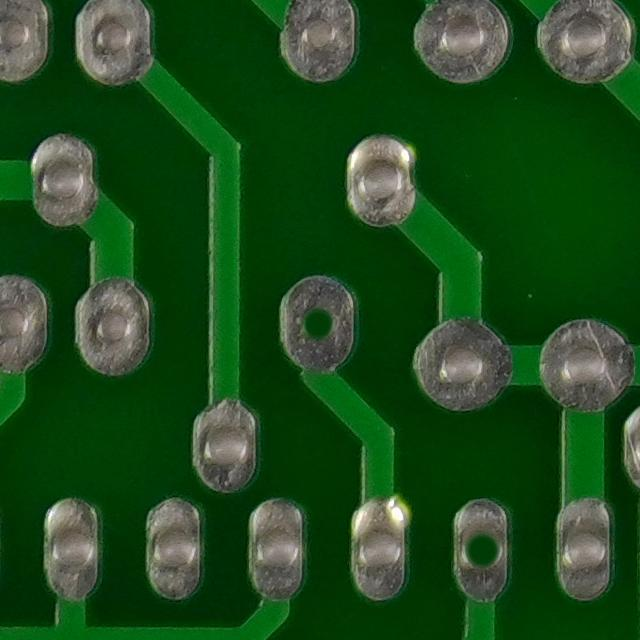missing_hole: (285, 280, 355, 360)
